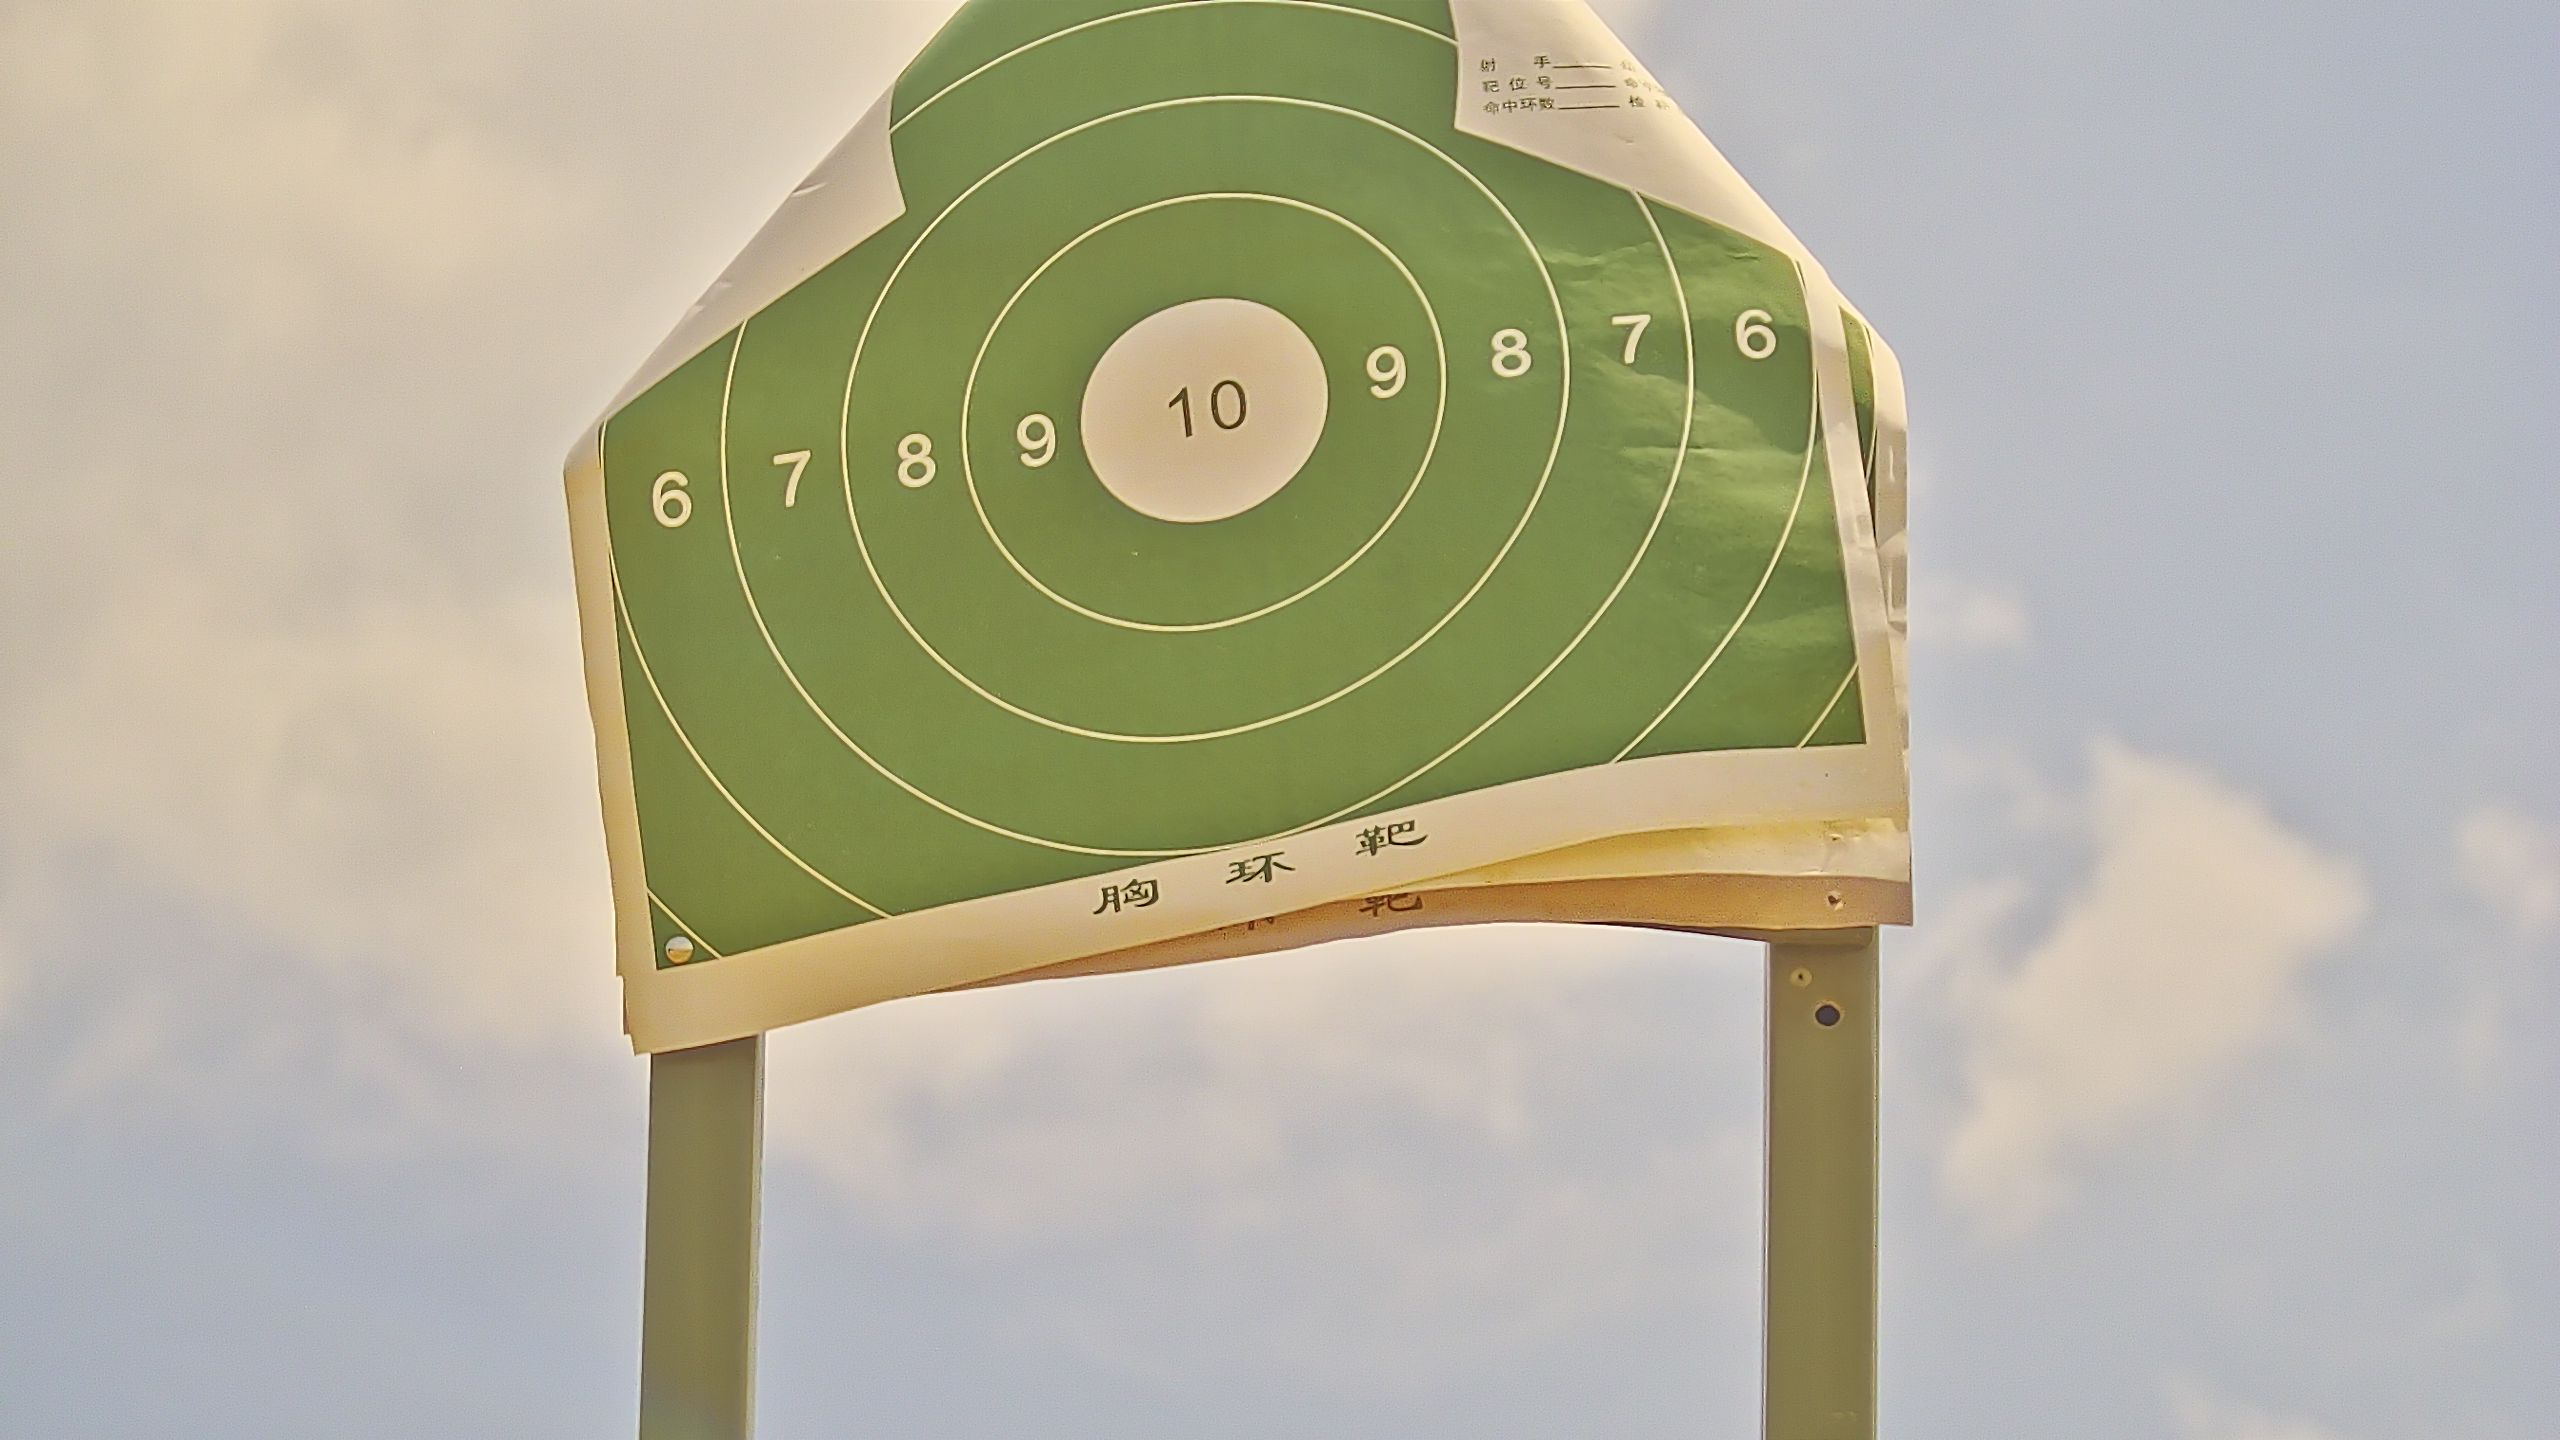target: (594, 7, 1871, 978)
ten: (1081, 294, 1329, 520)
